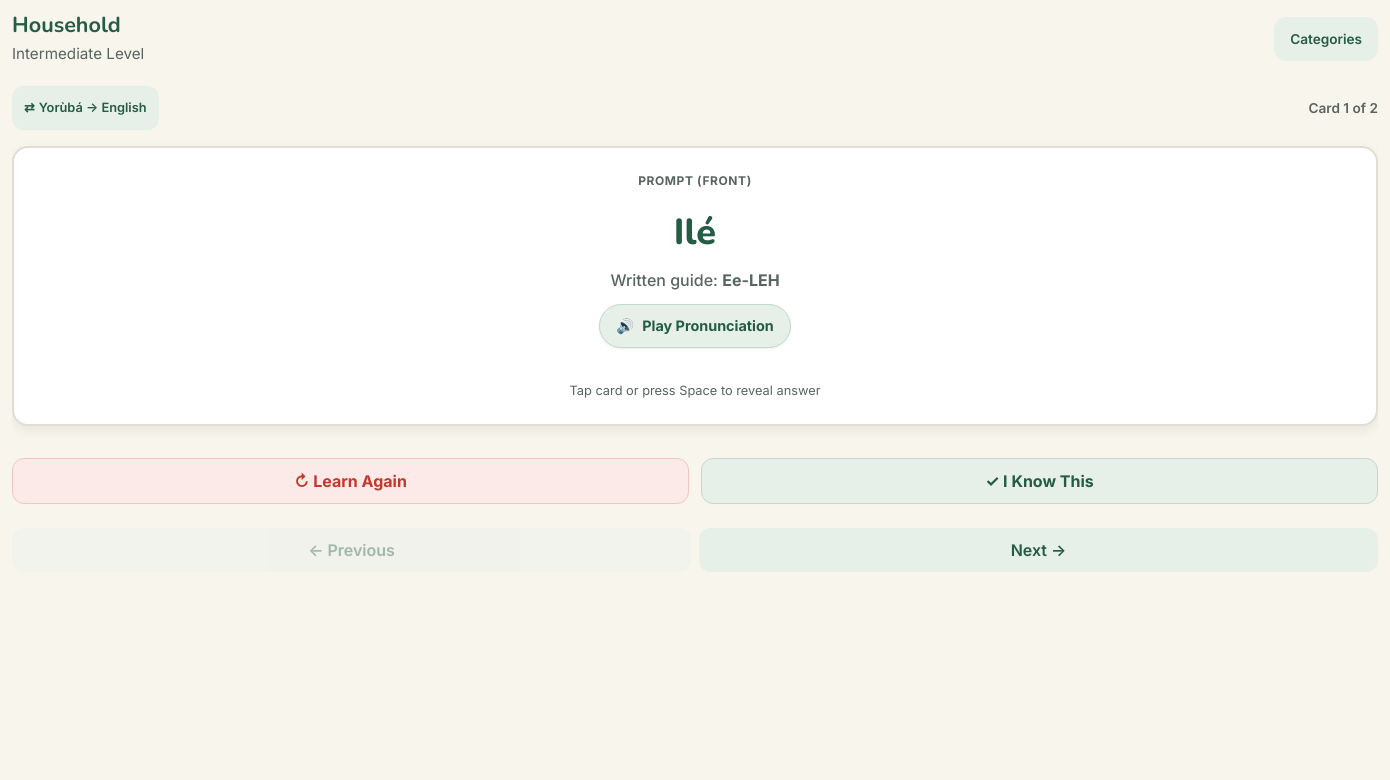
it: displays category completion screen when rating the final card in a set
Expected: the text "Card 1 of 2" is shown, x1=1308 y1=98 x2=1378 y2=118
What coordinates should you click on to do the following:
click the button with aria-label "Mark as known: I know this"
I would click on:
 (1040, 481)
Its box is x1=701 y1=458 x2=1378 y2=504.
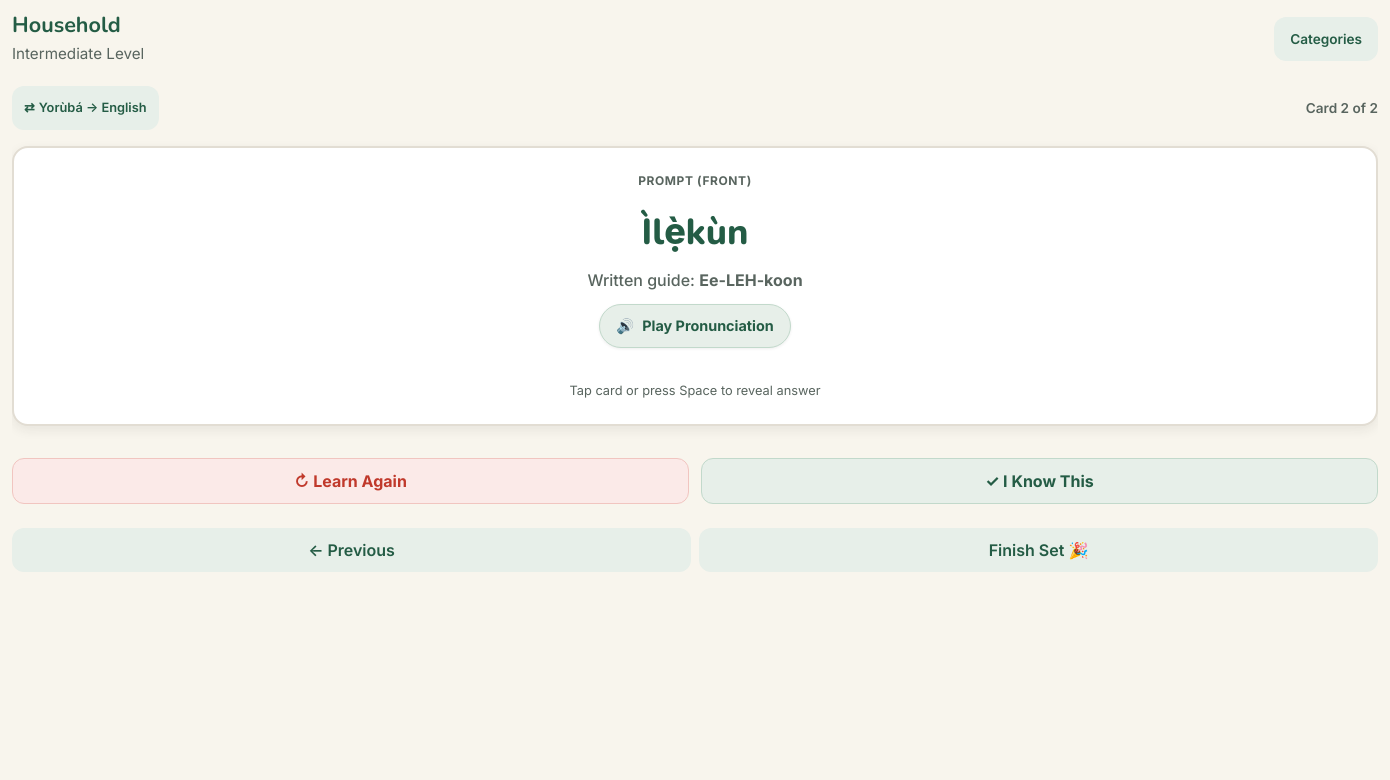
Result: the text "Card 2 of 2" is shown at x1=1306 y1=98 x2=1378 y2=118
What coordinates should you click on to do the following:
click the button with aria-label "Mark as known: I know this"
I would click on:
 (1040, 481)
Its box is x1=701 y1=458 x2=1378 y2=504.
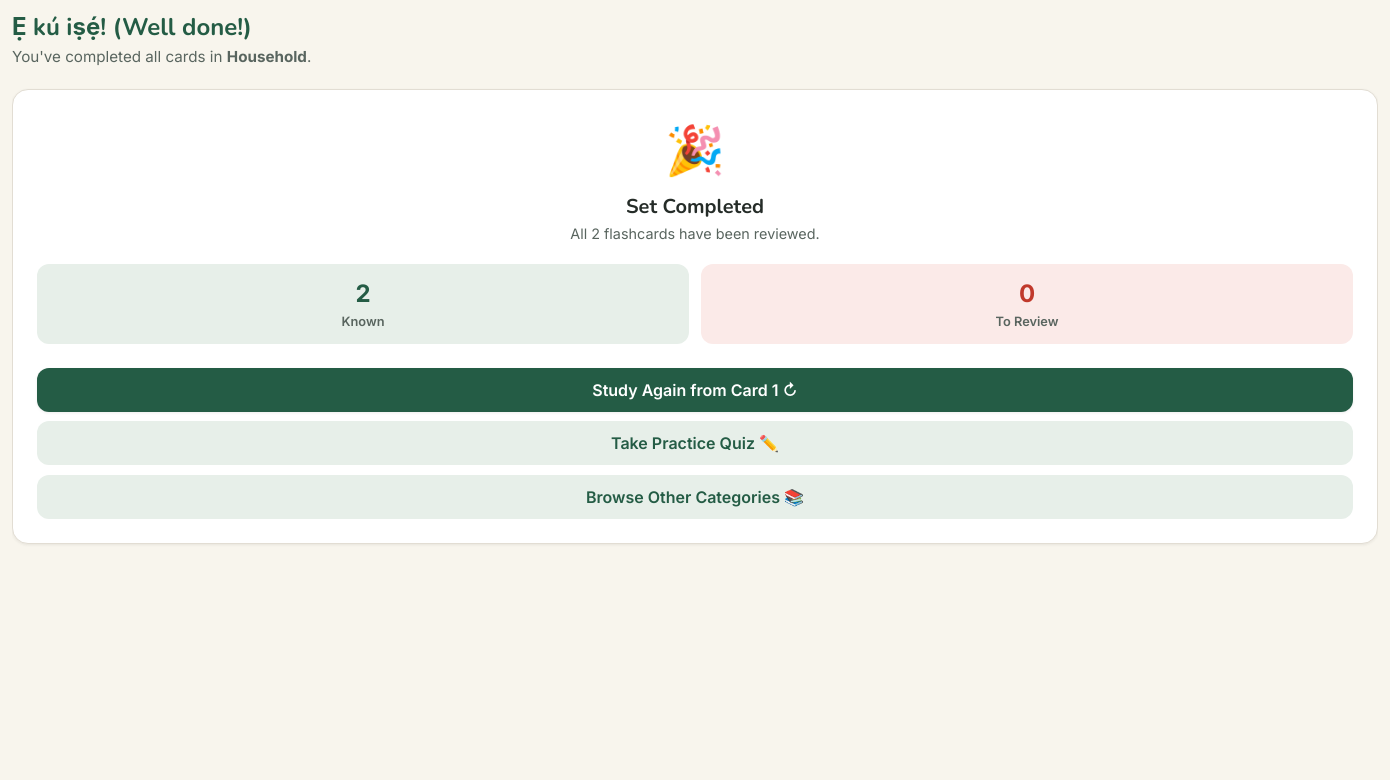
Result: the heading "Ẹ kú iṣẹ́! (Well done!)" is shown at x1=12 y1=11 x2=252 y2=43
Result: the button "Study Again from Card 1 ↻" is shown at x1=37 y1=368 x2=1353 y2=412
Result: the button "Take Practice Quiz ✏️" is shown at x1=37 y1=421 x2=1353 y2=465
